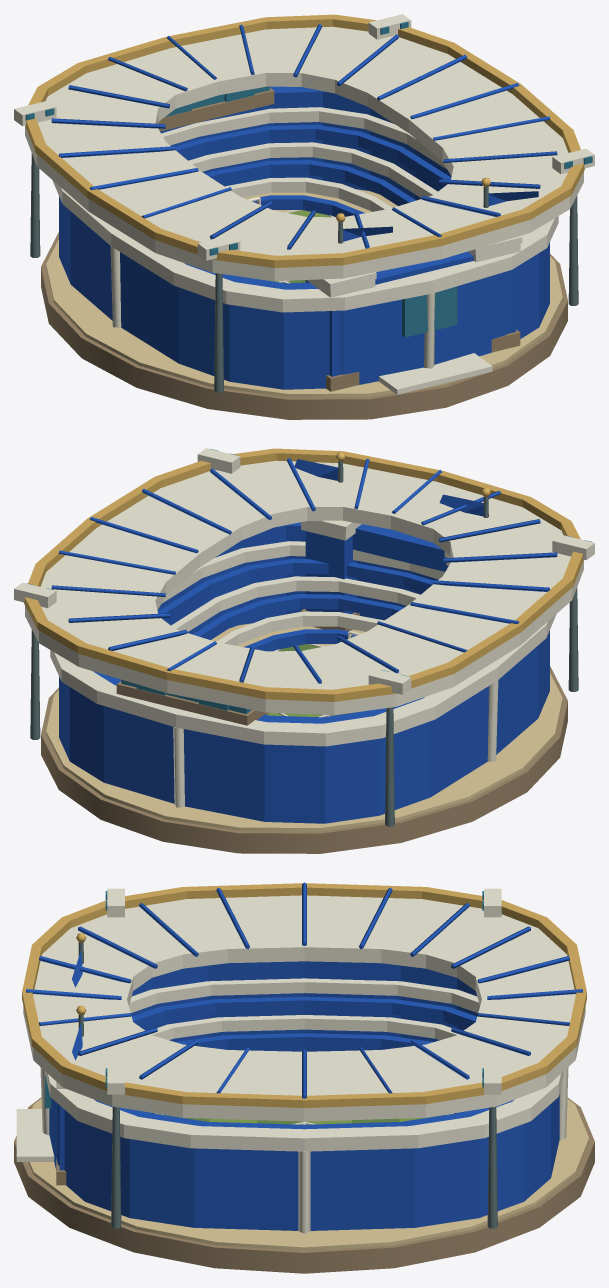
Rendered from main-stadium-lv5.glb.
3 views of the same model, one above another, from view 1: azimuth 30°, elevation 25°; view 2: azimuth 150°, elevation 25°; view 3: azimuth 270°, elevation 25° (orthographic). The views are drawn at different scales.
Parts seen in each view (by area): view 1: canopy_white, stadium_shell_royal, crown_gold, foundation_stoneDark, upper_concourse_white, seating_white, seating_royal, foundation_sand, roof_ribs_royal, lighting_iron, lighting_white, entrance_steps_white (+10 smaller); view 2: canopy_white, stadium_shell_royal, crown_gold, foundation_stoneDark, upper_concourse_white, foundation_sand, seating_white, seating_royal, roof_ribs_royal, lighting_iron, lighting_white, entrance_bridge_royal (+4 smaller); view 3: canopy_white, stadium_shell_royal, crown_gold, foundation_stoneDark, upper_concourse_white, seating_white, foundation_sand, seating_royal, roof_ribs_royal, lighting_iron, lighting_white, facade_ribs_white (+1 smaller).
Part boxes in pixels (x1=…): canopy_white: x1=25, y1=26, x2=583, y2=281; stadium_shell_royal: x1=59, y1=86, x2=549, y2=389; crown_gold: x1=25, y1=14, x2=585, y2=267; foundation_stoneDark: x1=41, y1=232, x2=567, y2=419; upper_concourse_white: x1=52, y1=180, x2=558, y2=312; seating_white: x1=161, y1=107, x2=447, y2=211; seating_royal: x1=175, y1=124, x2=451, y2=216; foundation_sand: x1=46, y1=189, x2=562, y2=397; roof_ribs_royal: x1=51, y1=24, x2=557, y2=249; lighting_iron: x1=30, y1=153, x2=578, y2=392; lighting_white: x1=14, y1=14, x2=594, y2=260; entrance_steps_white: x1=379, y1=353, x2=492, y2=394; canopy_white: x1=25, y1=460, x2=583, y2=715; stadium_shell_royal: x1=59, y1=522, x2=549, y2=823; crown_gold: x1=23, y1=448, x2=583, y2=701; foundation_stoneDark: x1=41, y1=666, x2=567, y2=853; upper_concourse_white: x1=50, y1=614, x2=556, y2=746; foundation_sand: x1=46, y1=623, x2=562, y2=831; seating_white: x1=161, y1=541, x2=444, y2=645; seating_royal: x1=157, y1=558, x2=433, y2=651; roof_ribs_royal: x1=51, y1=458, x2=557, y2=683; lighting_iron: x1=30, y1=587, x2=578, y2=826; lighting_white: x1=14, y1=448, x2=594, y2=694; entrance_bridge_royal: x1=352, y1=524, x2=448, y2=571; canopy_white: x1=23, y1=895, x2=585, y2=1121; stadium_shell_royal: x1=49, y1=961, x2=559, y2=1230; crown_gold: x1=22, y1=883, x2=586, y2=1107; foundation_stoneDark: x1=14, y1=1097, x2=594, y2=1273; upper_concourse_white: x1=44, y1=1071, x2=564, y2=1151; seating_white: x1=129, y1=978, x2=479, y2=1040; foundation_sand: x1=28, y1=1099, x2=589, y2=1250; seating_royal: x1=132, y1=996, x2=476, y2=1113; roof_ribs_royal: x1=26, y1=882, x2=582, y2=1098; lighting_iron: x1=111, y1=1106, x2=497, y2=1228; lighting_white: x1=107, y1=888, x2=501, y2=1094; facade_ribs_white: x1=40, y1=1067, x2=568, y2=1233.
Size of the model in its own units: 0.9074 by 0.3662 by 1.
